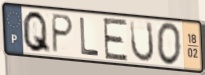E: (102, 17, 129, 62)
L: (78, 15, 101, 58)
O: (155, 21, 183, 68)
P: (51, 12, 75, 55)
Q: (21, 10, 52, 56)
U: (129, 19, 156, 64)
